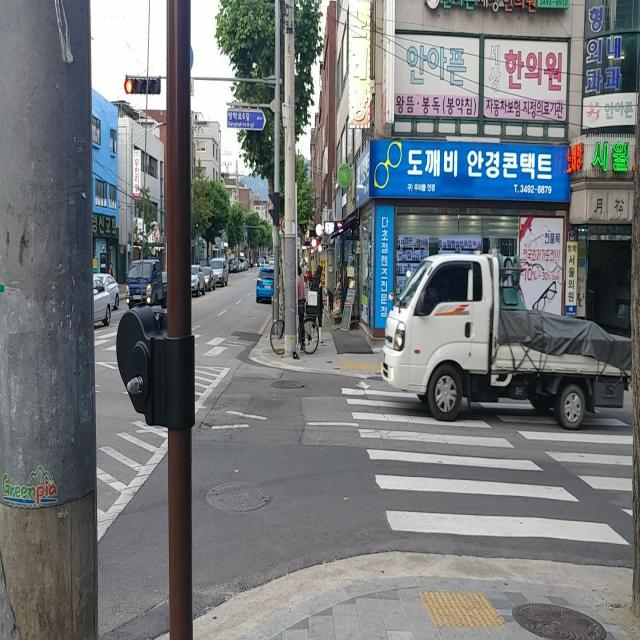횡단보도: (339, 377, 635, 549)
